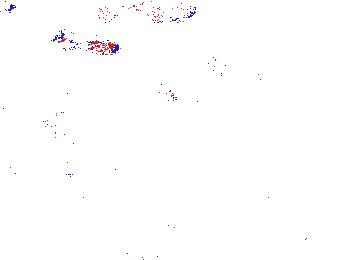X-ray fish: (42, 113, 82, 156)
glassfish: (195, 54, 299, 114)
red belly glassfish: (54, 25, 121, 56), (156, 82, 180, 104), (1, 1, 19, 17)
redtail glassfish: (97, 1, 199, 29)
